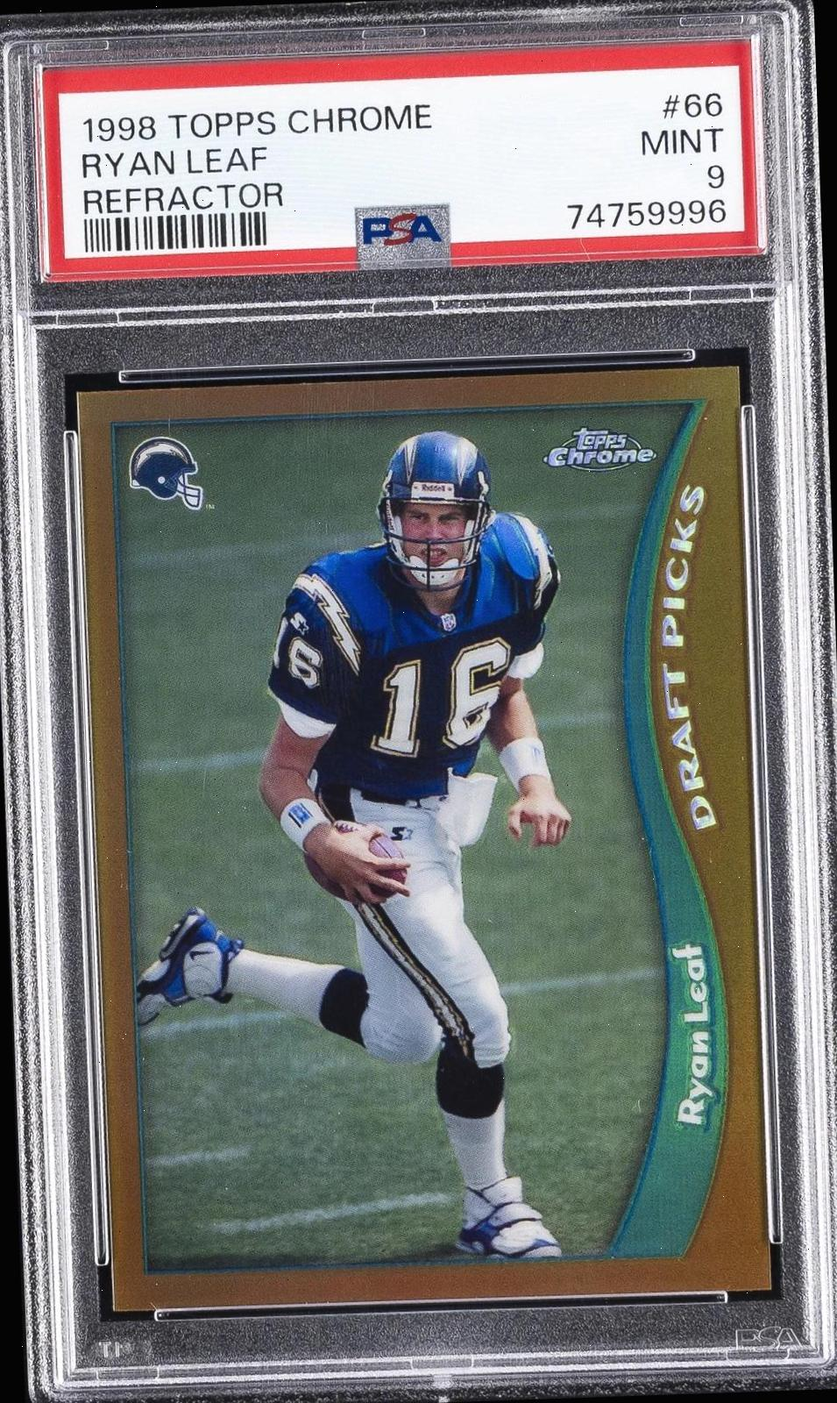card-2UtV: (75, 365, 771, 1312)
